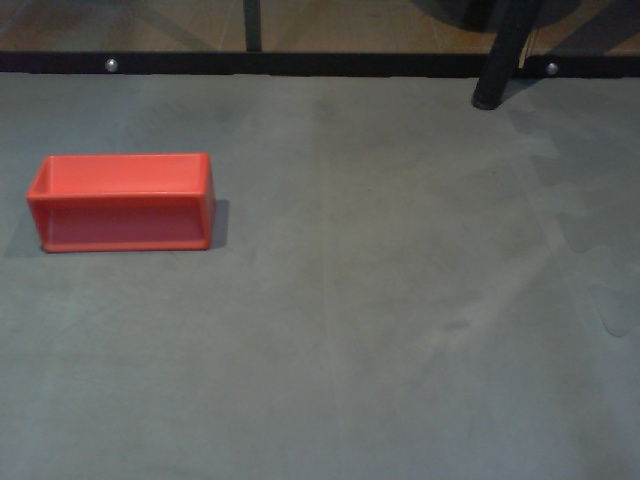RedSample: (26, 152, 217, 253)
